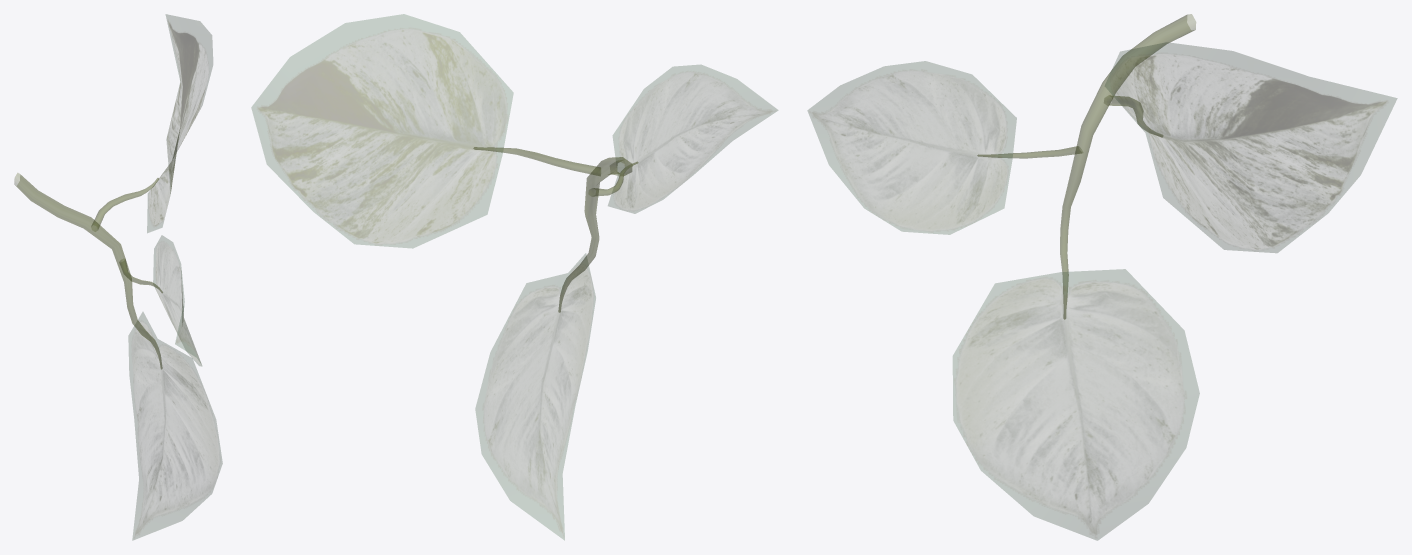
Rendered from preview.glb.
3 renders of one model, left to right at view 1: azimuth 30°, elevation 25°; view 2: azimuth 150°, elevation 25°; view 3: azimuth 270°, elevation 25°, orthographic. The views are drawn at different scales.
Visible parts, largest first — view 1: Vine_Epipremnum_aureum_B_Leaf_glb, Vine_Epipremnum_aureum_B_Stem_glb; view 2: Vine_Epipremnum_aureum_B_Leaf_glb, Vine_Epipremnum_aureum_B_Stem_glb; view 3: Vine_Epipremnum_aureum_B_Leaf_glb, Vine_Epipremnum_aureum_B_Stem_glb.
Boxes of the visible parts, box(x1,y1,x2,y2) form: Vine_Epipremnum_aureum_B_Leaf_glb: box(128, 14, 222, 540); Vine_Epipremnum_aureum_B_Stem_glb: box(14, 173, 162, 369); Vine_Epipremnum_aureum_B_Leaf_glb: box(251, 14, 777, 540); Vine_Epipremnum_aureum_B_Stem_glb: box(473, 147, 638, 312); Vine_Epipremnum_aureum_B_Leaf_glb: box(807, 42, 1397, 540); Vine_Epipremnum_aureum_B_Stem_glb: box(977, 14, 1195, 319).
Size of the model in its own units: 0.1098 by 0.1967 by 0.1832.
2 materials, 2 textured.
